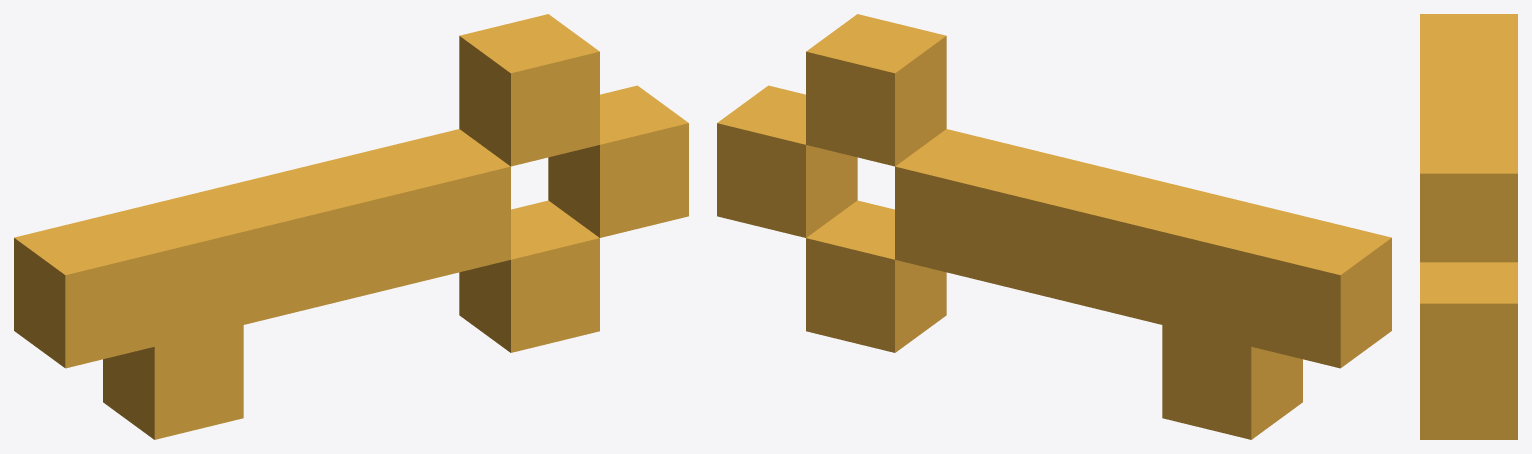
The model's file is Key-Orange.vox.obj.
The picture shows the model from 3 angles, left to right: view 1: azimuth 30°, elevation 25°; view 2: azimuth 150°, elevation 25°; view 3: azimuth 270°, elevation 25°; orthographic projection. The views are drawn at different scales.
Size of the model in its own units: 0.7 by 0.3 by 0.1.
1 material, 1 textured.
